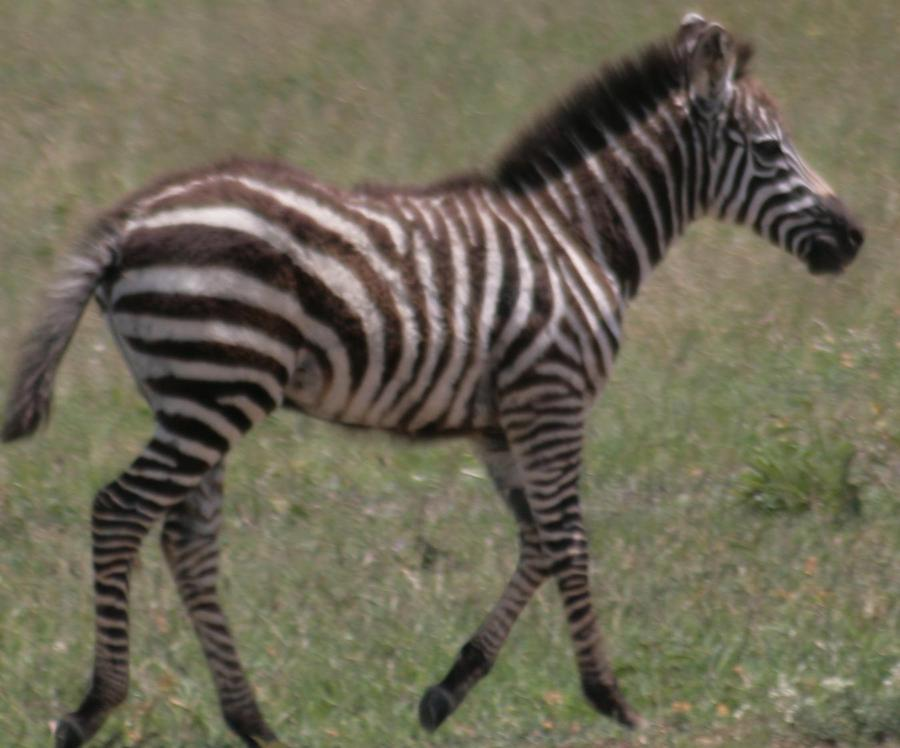zebra_plains: (113, 118, 635, 483)
